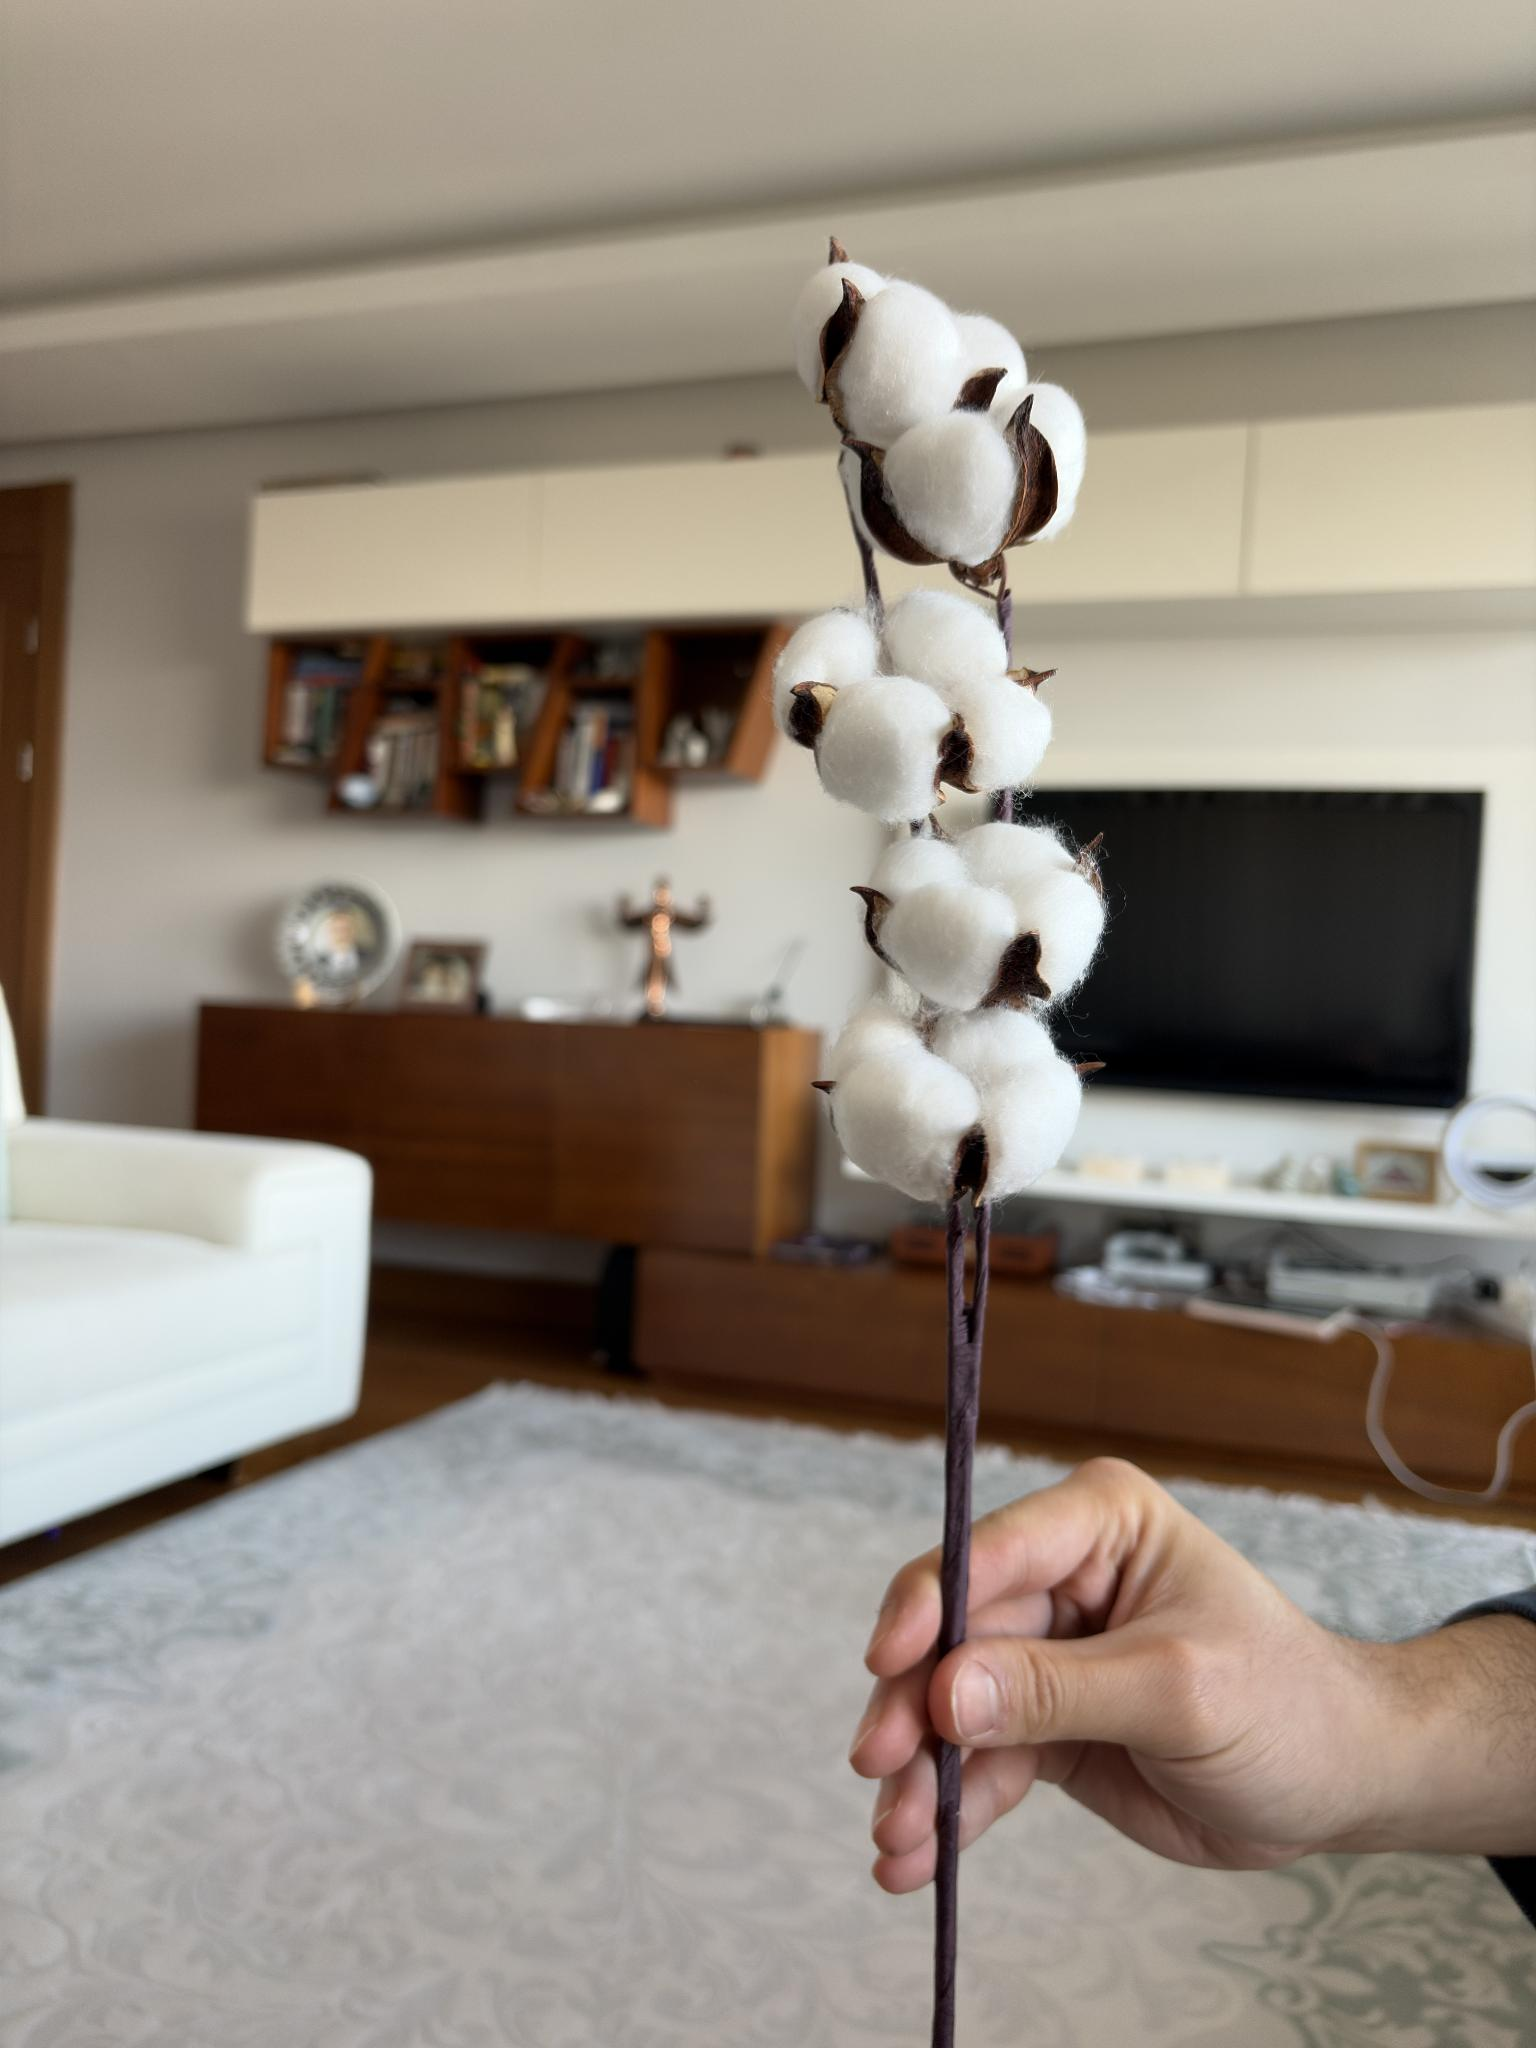cotton_boll: (823, 995, 1081, 1206), (957, 822, 1102, 992), (834, 282, 970, 447), (883, 410, 1018, 566), (815, 676, 954, 824), (879, 882, 1016, 1011), (791, 256, 886, 400), (773, 608, 878, 737), (939, 671, 1050, 792), (886, 590, 1008, 693), (1025, 382, 1086, 537), (954, 314, 1028, 403), (870, 837, 965, 905)
cotton_boll-cluster: (784, 227, 1092, 585), (765, 571, 1055, 829), (818, 969, 1086, 1203), (852, 829, 1118, 1019)
